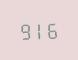nine: (18, 20, 30, 40)
one: (32, 20, 44, 39)
six: (45, 19, 57, 39)
